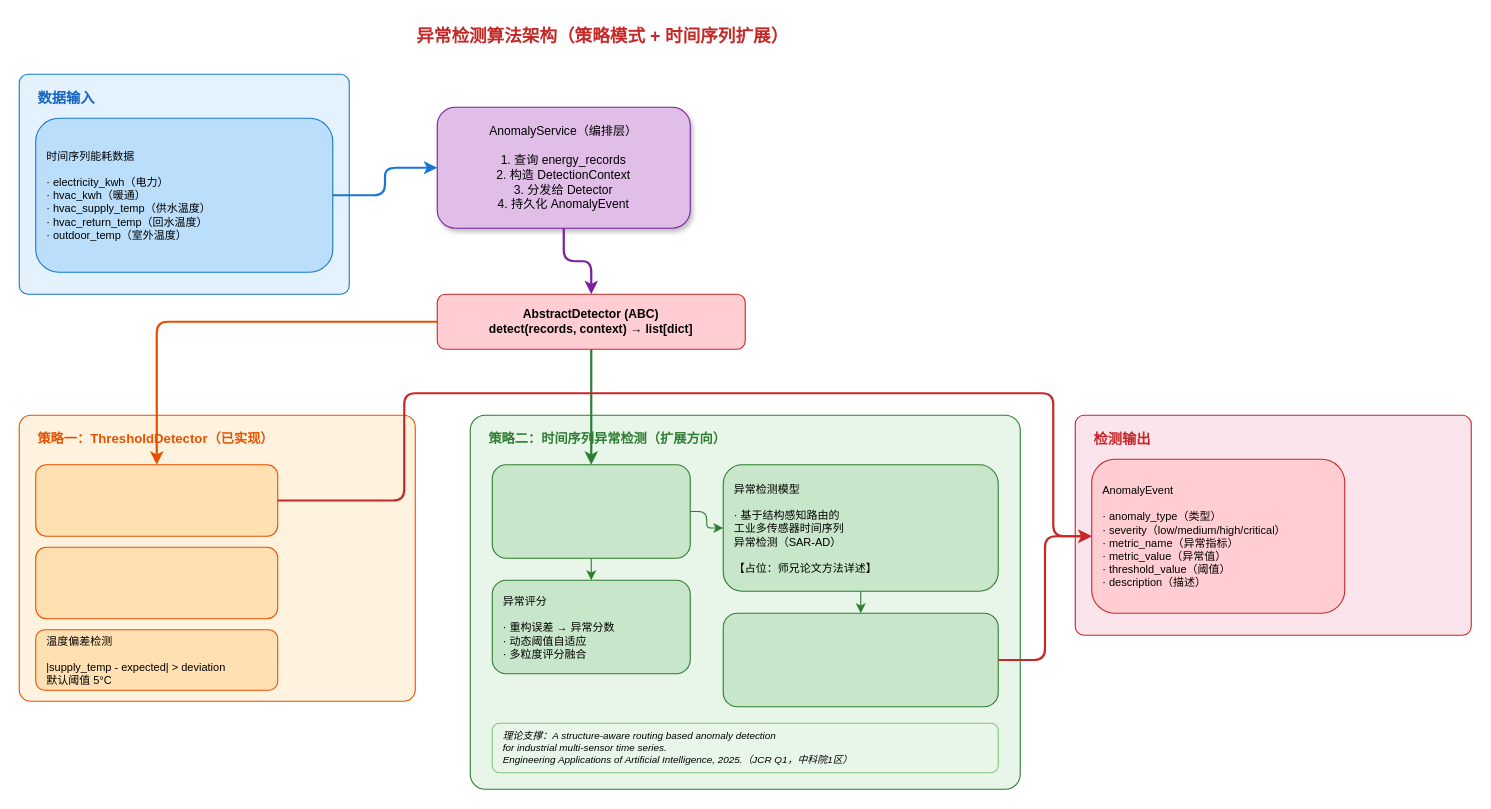
Image size: 1491x809. Some labels were removed from this diagram. The centre of each missing label's shape, as x and y in pixels:
"COP 低值检测 COP < min_cop（默认 2.0） 标识暖通系统效率异常" belongs at (x=156, y=582).
"数据预处理 · 缺失值插补 · 时间窗口滑动切片 · 多变量特征对齐" belongs at (x=590, y=511).
"根因诊断 · 异常传感器定位 · 故障类型分类 · 关联 LLM 解释生成" belongs at (x=860, y=659).
"电力尖峰检测 electricity_kwh > mean × spike_factor severity 按超出倍数分级" belongs at (x=156, y=500).
